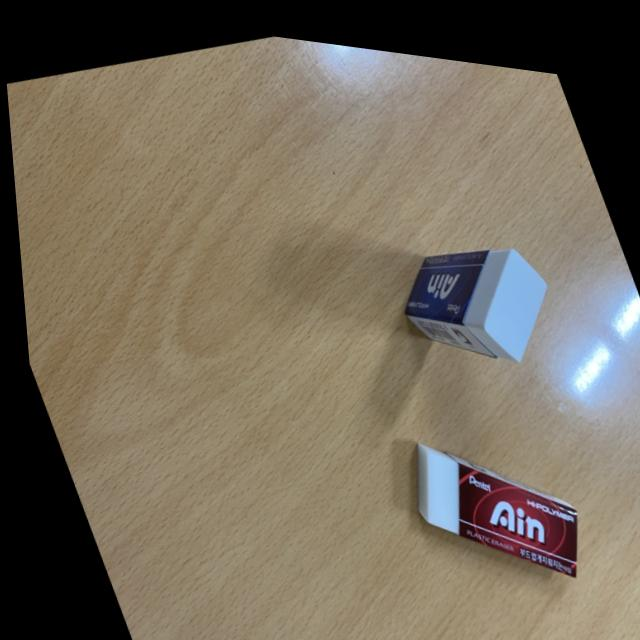blue: (373, 203, 576, 388)
red: (379, 387, 599, 608)
